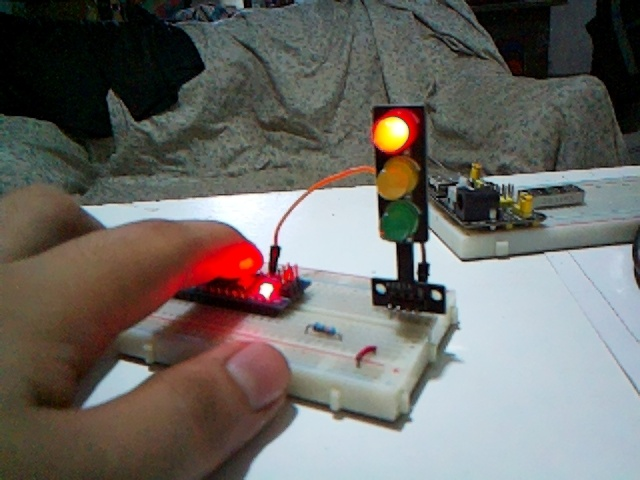traffic_light_red: (372, 105, 426, 243)
